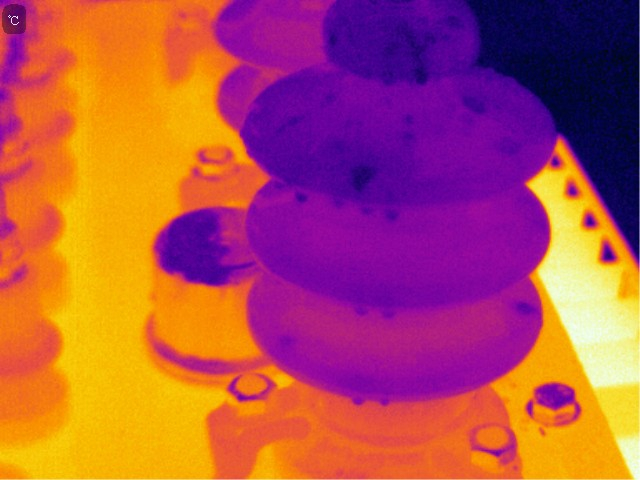Water: (400, 26, 436, 86), (348, 163, 379, 192), (459, 92, 489, 116), (495, 137, 524, 157), (274, 114, 304, 131), (442, 16, 467, 32), (399, 112, 421, 130), (516, 300, 536, 319), (349, 392, 370, 409), (378, 71, 400, 87), (291, 188, 311, 205), (358, 202, 377, 219), (329, 193, 348, 210), (385, 204, 401, 223), (383, 40, 402, 56), (381, 306, 397, 323), (278, 333, 296, 347), (376, 394, 393, 408), (354, 303, 369, 318), (326, 32, 339, 48), (323, 93, 337, 105), (272, 180, 286, 191)
